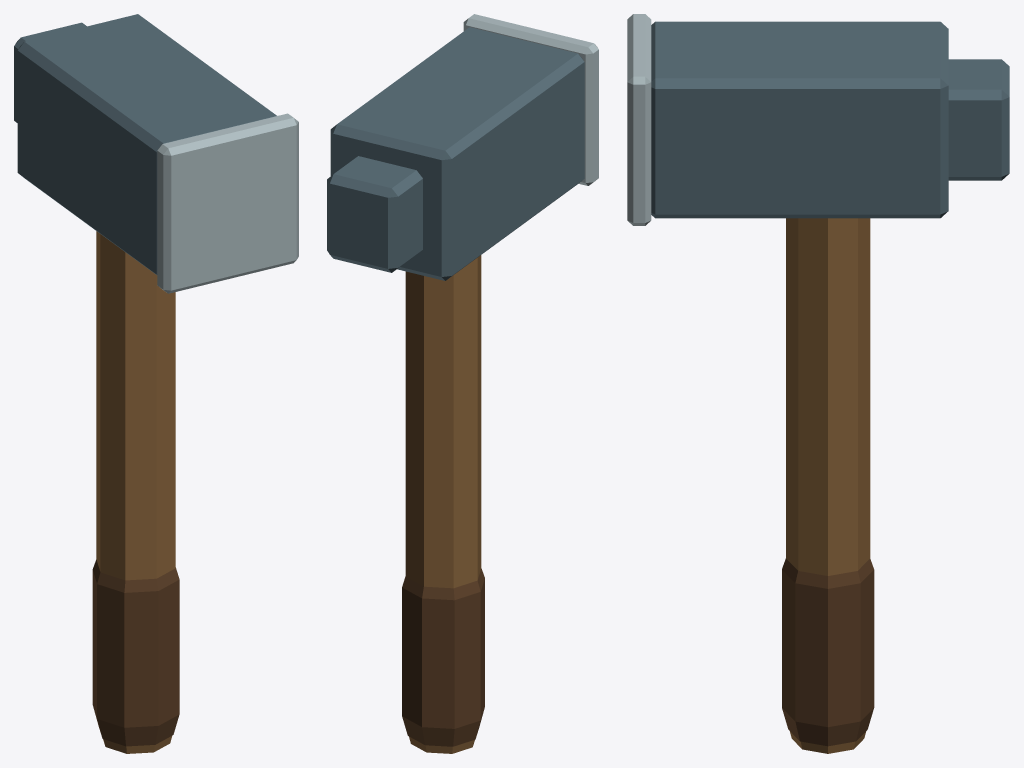
Rendered from Hammer.fbx.
The picture shows the model from 3 angles, left to right: view 1: azimuth 30°, elevation 25°; view 2: azimuth 150°, elevation 25°; view 3: azimuth 270°, elevation 25°; orthographic projection. The views are drawn at different scales.
Visible parts, largest first — view 1: Hammer; view 2: Hammer; view 3: Hammer.
Boxes of the visible parts, box(x1,y1,x2,y2) form: Hammer: box(14, 14, 298, 753); Hammer: box(327, 14, 598, 753); Hammer: box(627, 14, 1009, 753).
Bounding box in the file's own units: 8 × 38.1 × 19.05.
